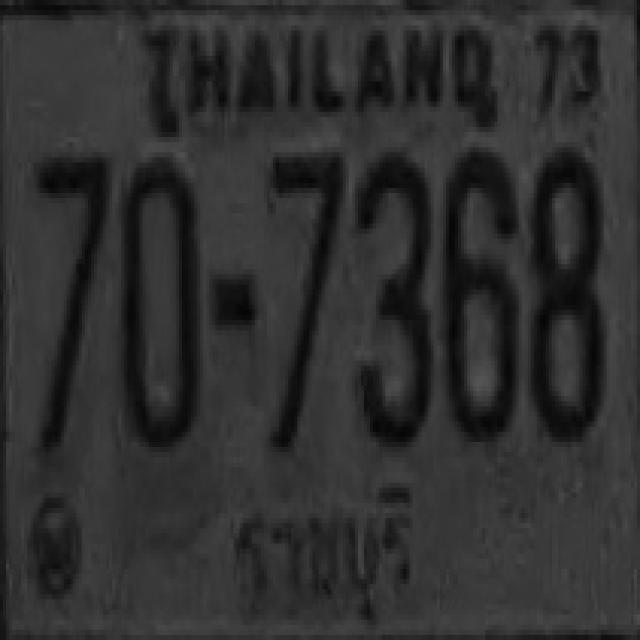0: (118, 155, 197, 444)
3: (355, 147, 428, 442)
6: (441, 147, 514, 437)
7: (268, 150, 342, 449), (34, 150, 106, 449)
8: (528, 145, 600, 434)
Ratchaburi: (226, 470, 418, 636)
